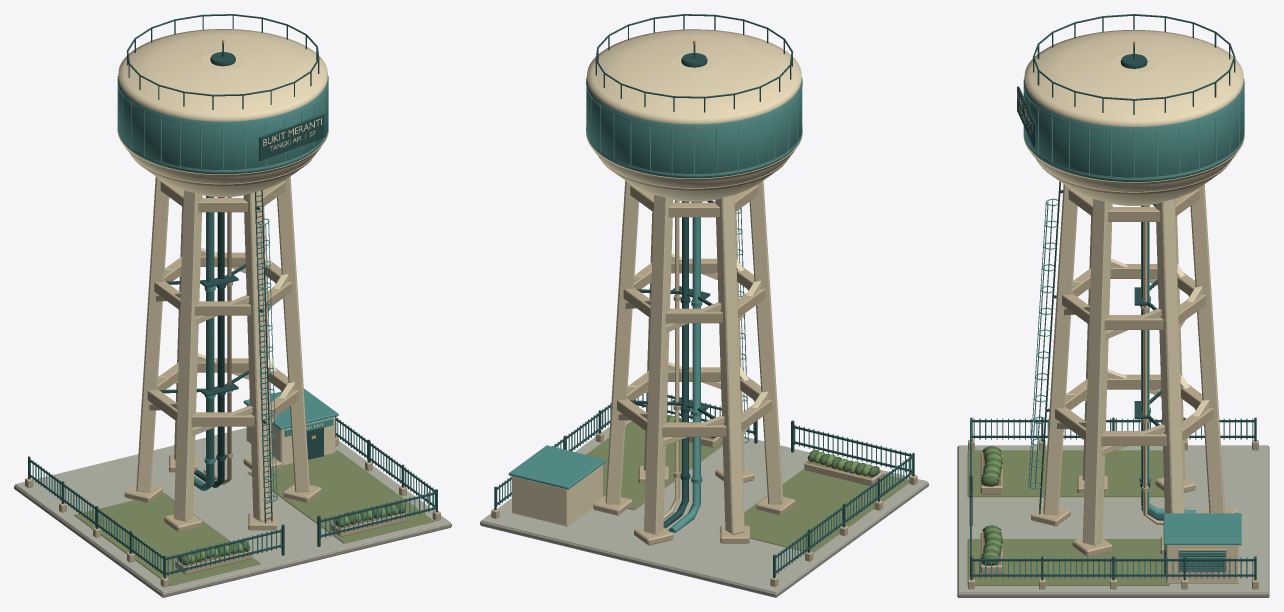
The picture shows the model from 3 angles, left to right: view 1: azimuth 30°, elevation 25°; view 2: azimuth 150°, elevation 25°; view 3: azimuth 270°, elevation 25°; orthographic projection. The views are drawn at different scales.
Visible parts, largest first — view 1: Service Lot, Tank Bowl, Concrete Pilotis, Pilotis Ring Beams, Yard Fence, Water Services, Tank Seams, Caged Ladder, Pump Enclosure, Crown Walk, Tank Nameplate; view 2: Service Lot, Tank Bowl, Concrete Pilotis, Pilotis Ring Beams, Water Services, Yard Fence, Pump Enclosure, Tank Seams, Crown Walk; view 3: Service Lot, Tank Bowl, Concrete Pilotis, Pilotis Ring Beams, Yard Fence, Pump Enclosure, Tank Seams, Water Services, Caged Ladder, Crown Walk, Tank Nameplate.
Part boxes in pixels (box(x1,y1,x2,y2)): Service Lot: box(14, 427, 451, 597); Tank Bowl: box(117, 29, 328, 197); Concrete Pilotis: box(124, 176, 321, 531); Pilotis Ring Beams: box(147, 181, 298, 435); Yard Fence: box(25, 416, 440, 587); Water Services: box(159, 196, 248, 490); Tank Seams: box(117, 76, 328, 186); Caged Ladder: box(255, 190, 277, 523); Pump Enclosure: box(243, 388, 338, 465); Crown Walk: box(126, 14, 319, 109); Tank Nameplate: box(259, 114, 324, 160); Service Lot: box(480, 415, 928, 597); Tank Bowl: box(586, 29, 802, 201); Concrete Pilotis: box(593, 180, 795, 545); Pilotis Ring Beams: box(617, 185, 771, 446); Water Services: box(630, 200, 715, 532); Yard Fence: box(491, 394, 917, 586); Pump Enclosure: box(508, 445, 606, 526); Tank Seams: box(586, 77, 802, 190); Crown Walk: box(595, 14, 792, 112); Service Lot: box(957, 445, 1269, 597); Tank Bowl: box(1023, 30, 1244, 205); Concrete Pilotis: box(1031, 184, 1237, 556); Pilotis Ring Beams: box(1055, 189, 1213, 455); Yard Fence: box(968, 417, 1258, 589); Pump Enclosure: box(1163, 513, 1241, 583); Tank Seams: box(1023, 79, 1244, 194); Water Services: box(1134, 204, 1195, 524); Caged Ladder: box(1028, 181, 1063, 514); Crown Walk: box(1032, 14, 1235, 114); Tank Nameplate: box(1017, 86, 1035, 147).
Bounding box in the file's own units: 18.5 × 28.13 × 16.5.
